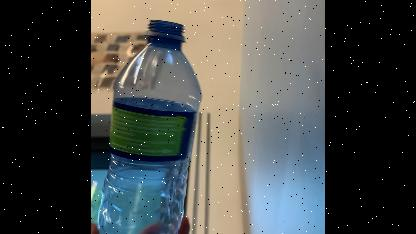Plastic Bottle: (97, 18, 202, 234)
